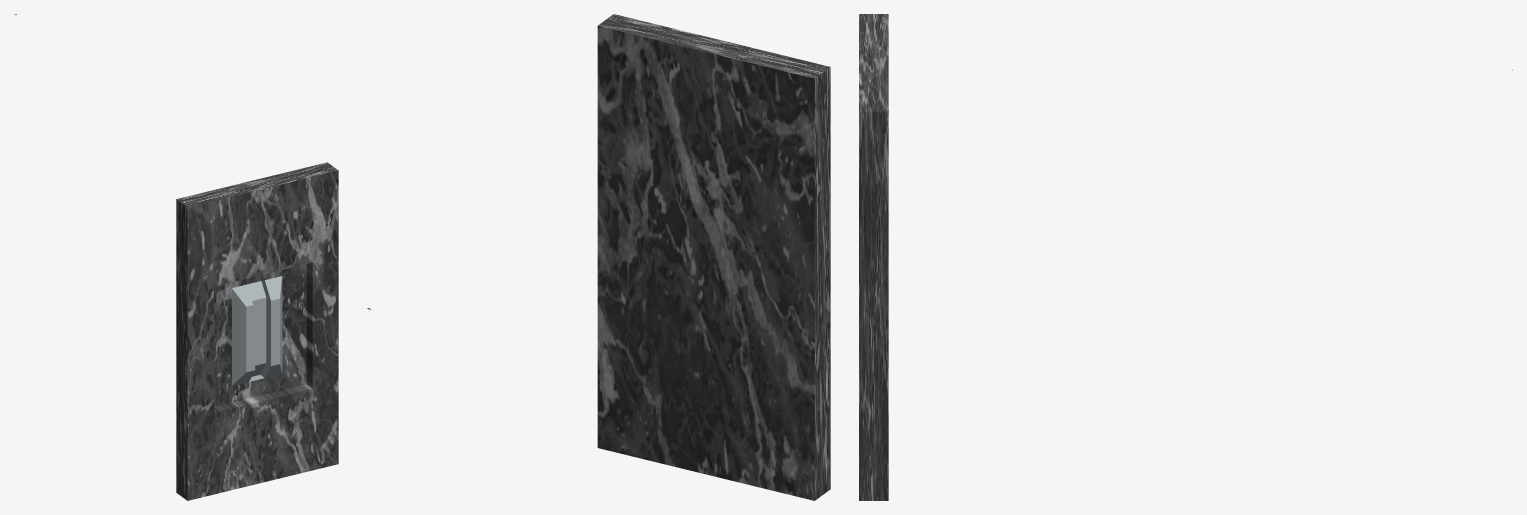
The model's file is lever_plate.fbx.
The picture shows the model from 3 angles, left to right: view 1: azimuth 30°, elevation 25°; view 2: azimuth 150°, elevation 25°; view 3: azimuth 270°, elevation 25°; orthographic projection. The views are drawn at different scales.
Parts seen in each view (by area): view 1: Cube; view 2: Cube; view 3: Cube.
Part boxes in pixels (box(x1,y1,x2,y2)): Cube: box(14, 14, 338, 500); Cube: box(367, 14, 830, 500); Cube: box(859, 14, 1512, 500).
Size of the model in its own units: 84.04 by 156 by 238.
